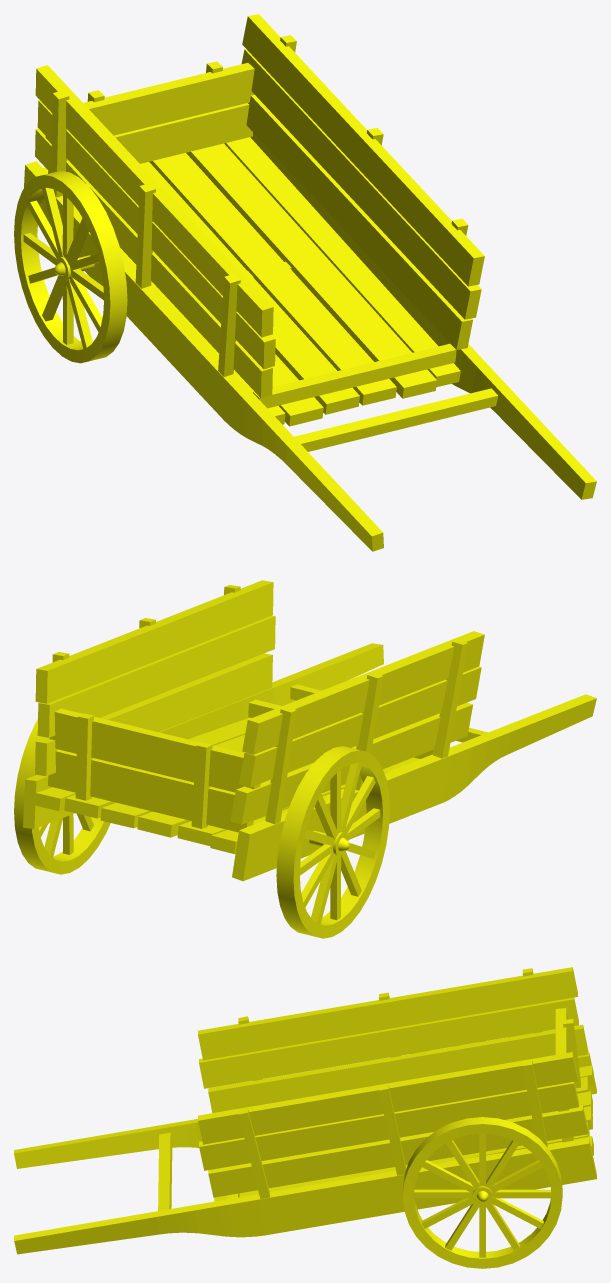
File: prop-wagon.glb
3 views of the same model, one above another, from view 1: azimuth 30°, elevation 25°; view 2: azimuth 150°, elevation 25°; view 3: azimuth 270°, elevation 25° (orthographic). The views are drawn at different scales.
Parts seen in each view (by area): view 1: Prop_Wagon; view 2: Prop_Wagon; view 3: Prop_Wagon.
Boxes of the visible parts, <box> form: Prop_Wagon: <box>14,14,596,551</box>; Prop_Wagon: <box>14,580,596,938</box>; Prop_Wagon: <box>14,967,596,1268</box>.
Size of the model in its own units: 1.95 by 1.53 by 4.02.
